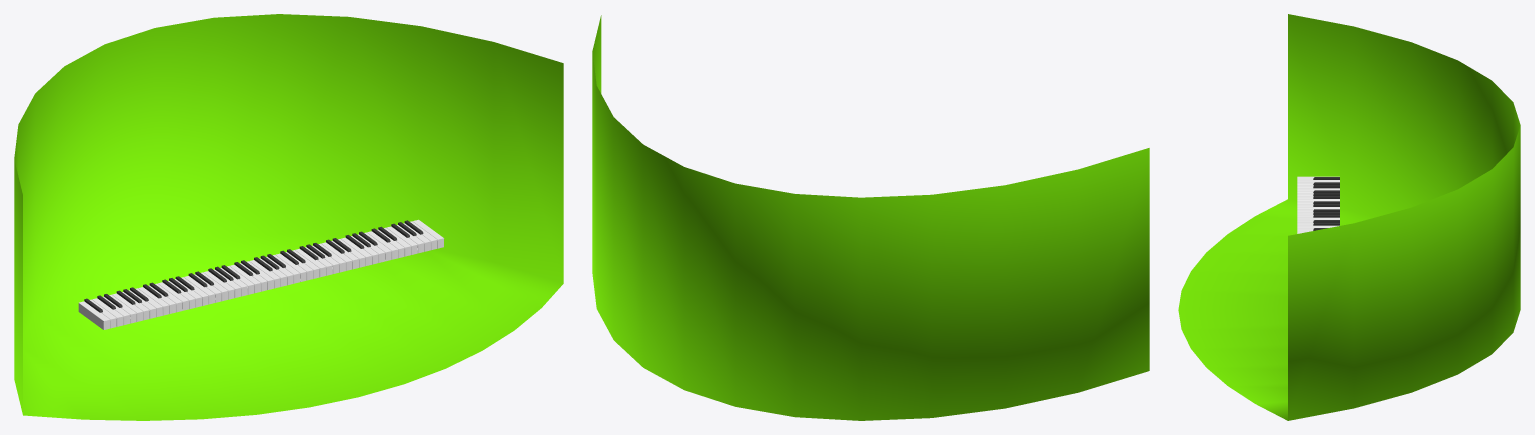
3 renders of one model, left to right at view 1: azimuth 30°, elevation 25°; view 2: azimuth 150°, elevation 25°; view 3: azimuth 270°, elevation 25°, orthographic. The views are drawn at different scales.
Visible parts, largest first — view 1: SketchUp, White_Keys; view 2: SketchUp; view 3: SketchUp, White_Keys.
Boxes of the visible parts, x1,y1,x2,y2 form: SketchUp: [14, 14, 563, 420]; White_Keys: [78, 219, 444, 329]; SketchUp: [592, 15, 1149, 420]; SketchUp: [1178, 14, 1520, 420]; White_Keys: [1297, 176, 1339, 233].
Bounding box in the file's own units: 142 × 92.89 × 55.47.
